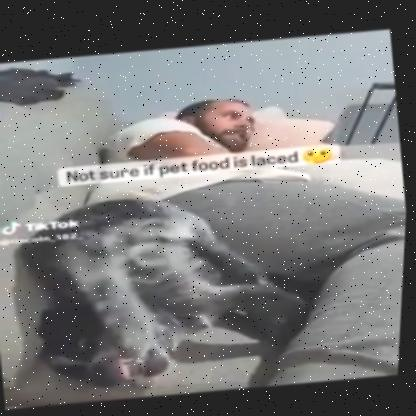dog: (0, 164, 318, 409)
